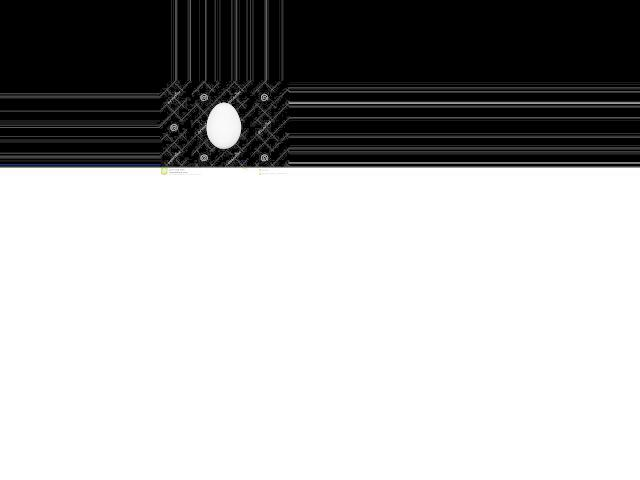egg: (207, 103, 242, 149)
